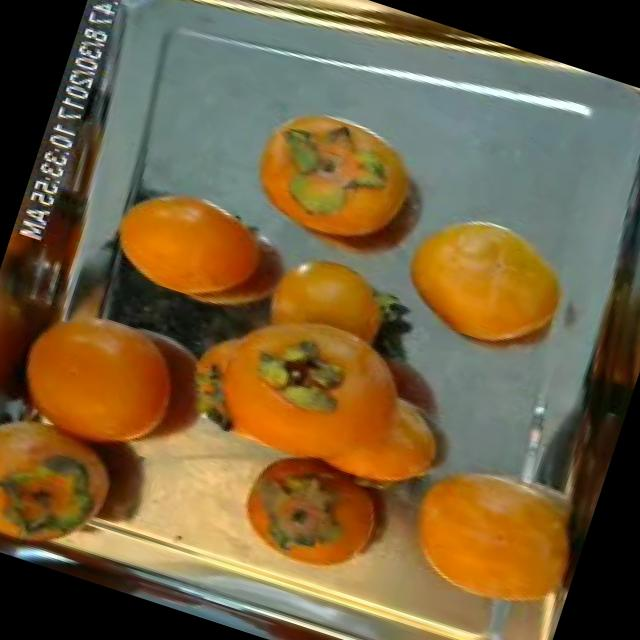Fruit: (369, 422, 604, 638), (220, 81, 468, 284), (374, 184, 600, 384), (97, 158, 321, 336)
